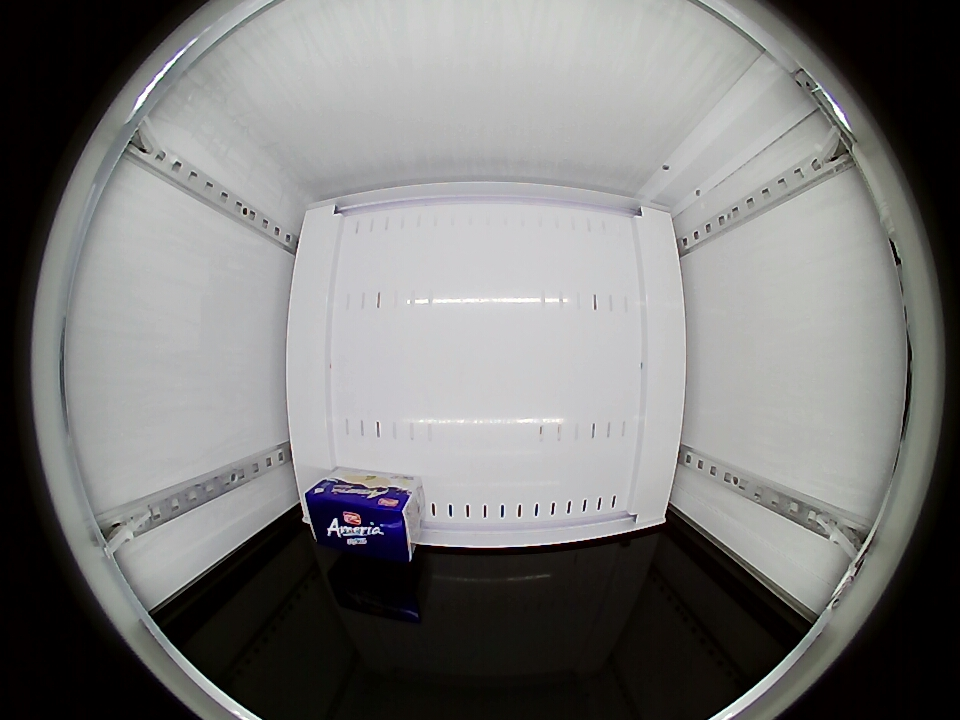meiniye: (304, 480, 417, 561)
